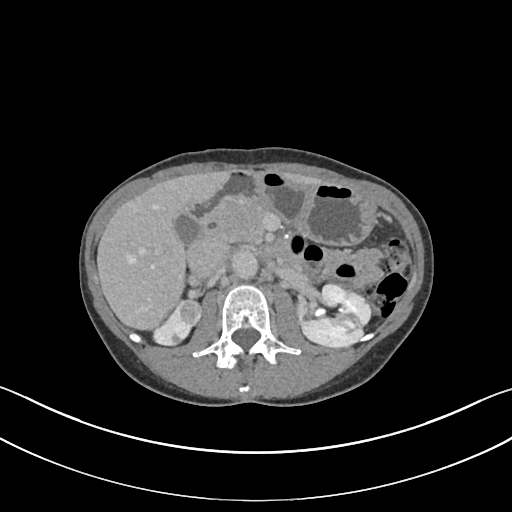Lesion: (178, 300, 201, 328)
